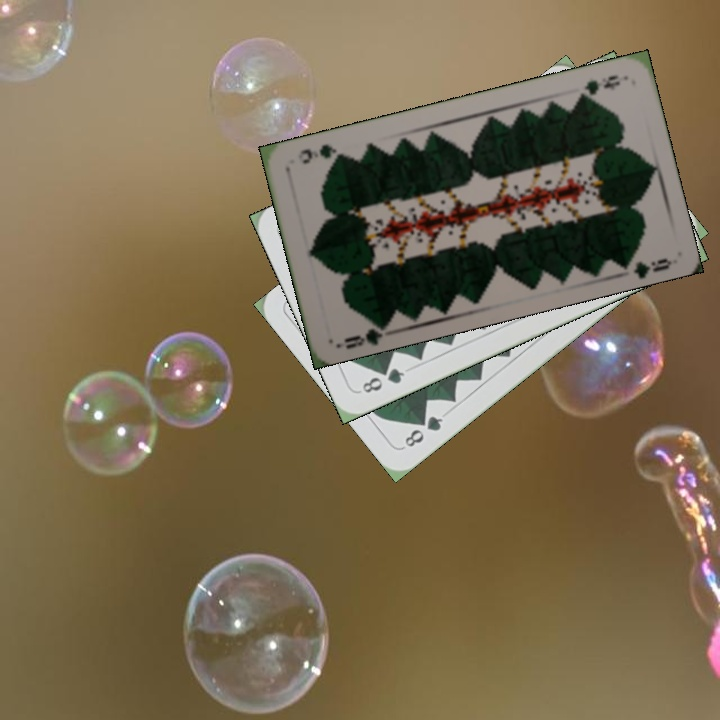G8: (400, 411, 446, 450), (358, 364, 408, 396)
G9: (339, 318, 390, 352), (574, 71, 625, 102)
